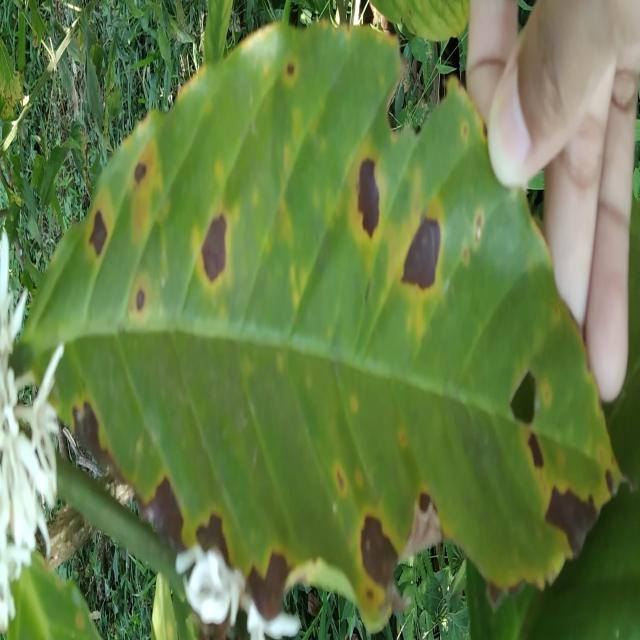Enfermedad-Mancha-de-hierro: (10, 20, 623, 638)
